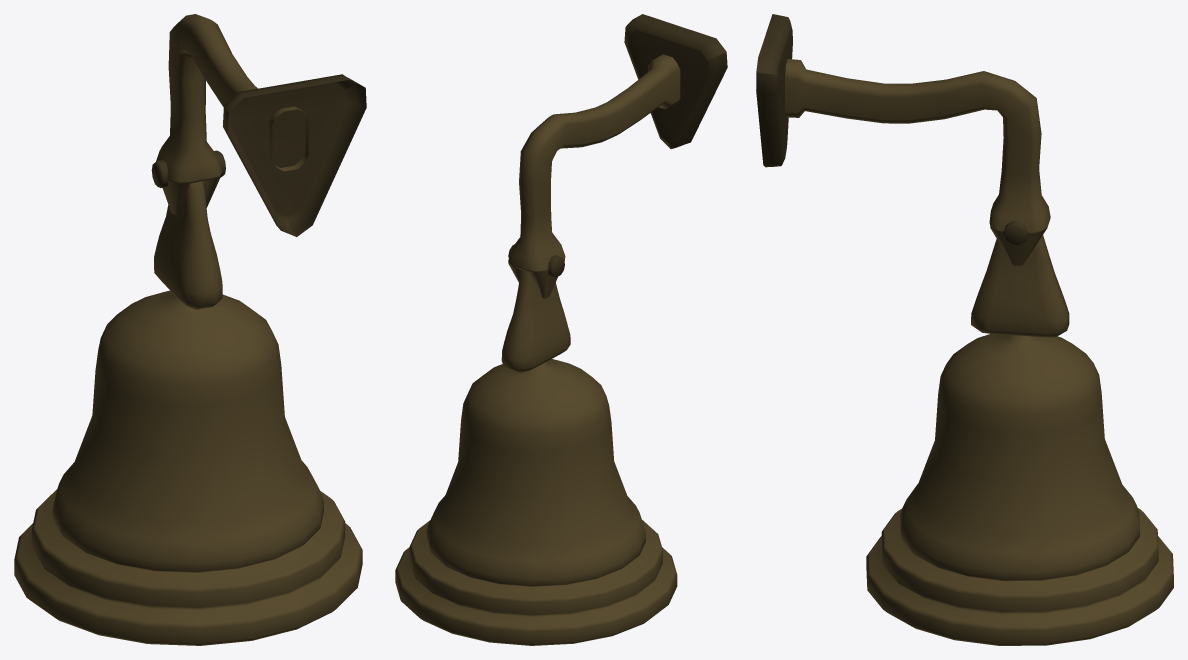
The model's file is DoorBell.fbx.
3 renders of one model, left to right at view 1: azimuth 30°, elevation 25°; view 2: azimuth 150°, elevation 25°; view 3: azimuth 270°, elevation 25°, orthographic. The views are drawn at different scales.
Parts seen in each view (by area): view 1: Bell; view 2: Bell; view 3: Bell.
Boxes of the visible parts, bbox=[...] form: Bell: bbox=[14, 14, 366, 645]; Bell: bbox=[395, 14, 727, 645]; Bell: bbox=[756, 14, 1173, 645].
Size of the model in its own units: 36.19 by 75.04 by 49.18.
